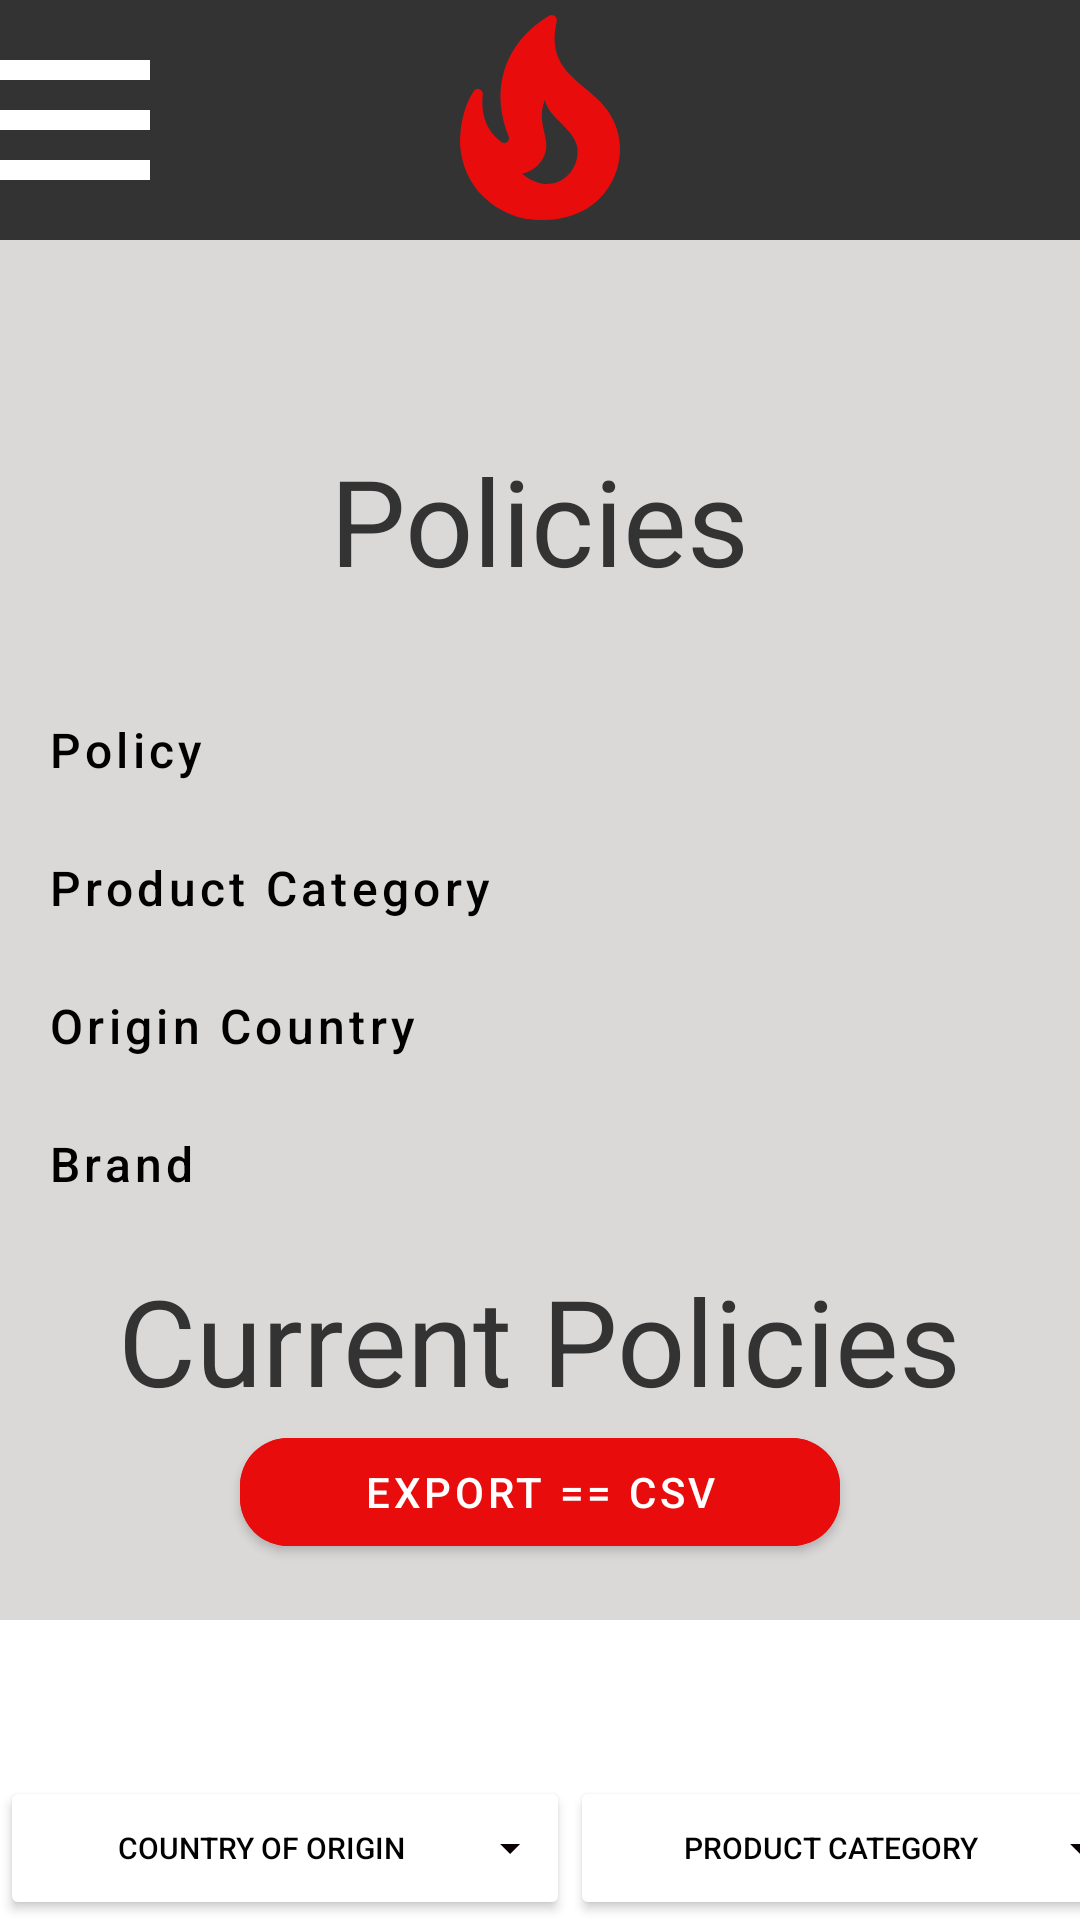

Screen size 1080px x 1920px. Icon name, then its box in pixels as bbox=(x1, y1, x2, y2):
fire: bbox=(460, 15, 620, 220)
